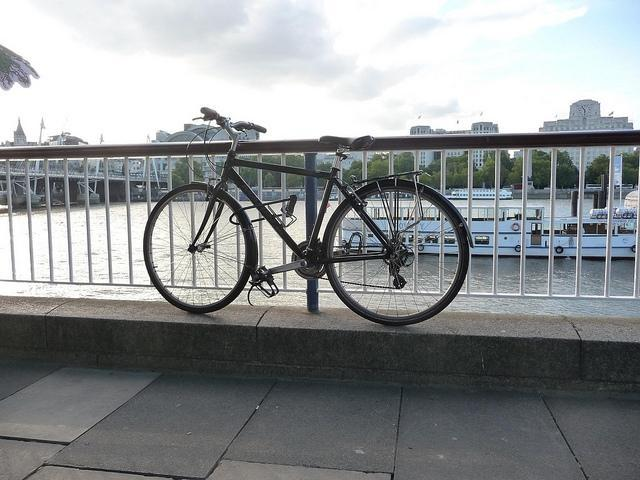bicycle: (140, 109, 479, 323)
